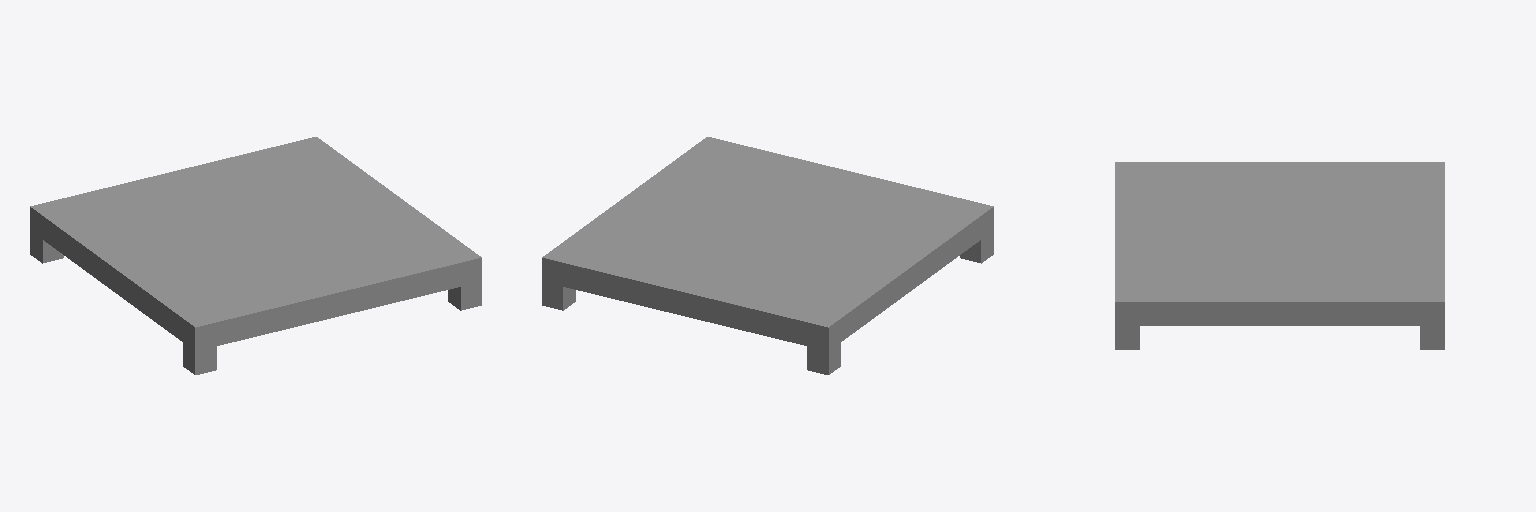
File: palette.obj
3 views of the same model, side by side, from view 1: azimuth 30°, elevation 25°; view 2: azimuth 150°, elevation 25°; view 3: azimuth 270°, elevation 25° (orthographic).
Visible parts, largest first — view 1: Cube.001; view 2: Cube.001; view 3: Cube.001.
Part boxes in pixels (left/top/right/bottom): Cube.001: left=30, top=137, right=481, bottom=374; Cube.001: left=542, top=137, right=993, bottom=374; Cube.001: left=1115, top=162, right=1444, bottom=349.
Size of the model in its own units: 1 by 0.1599 by 1.